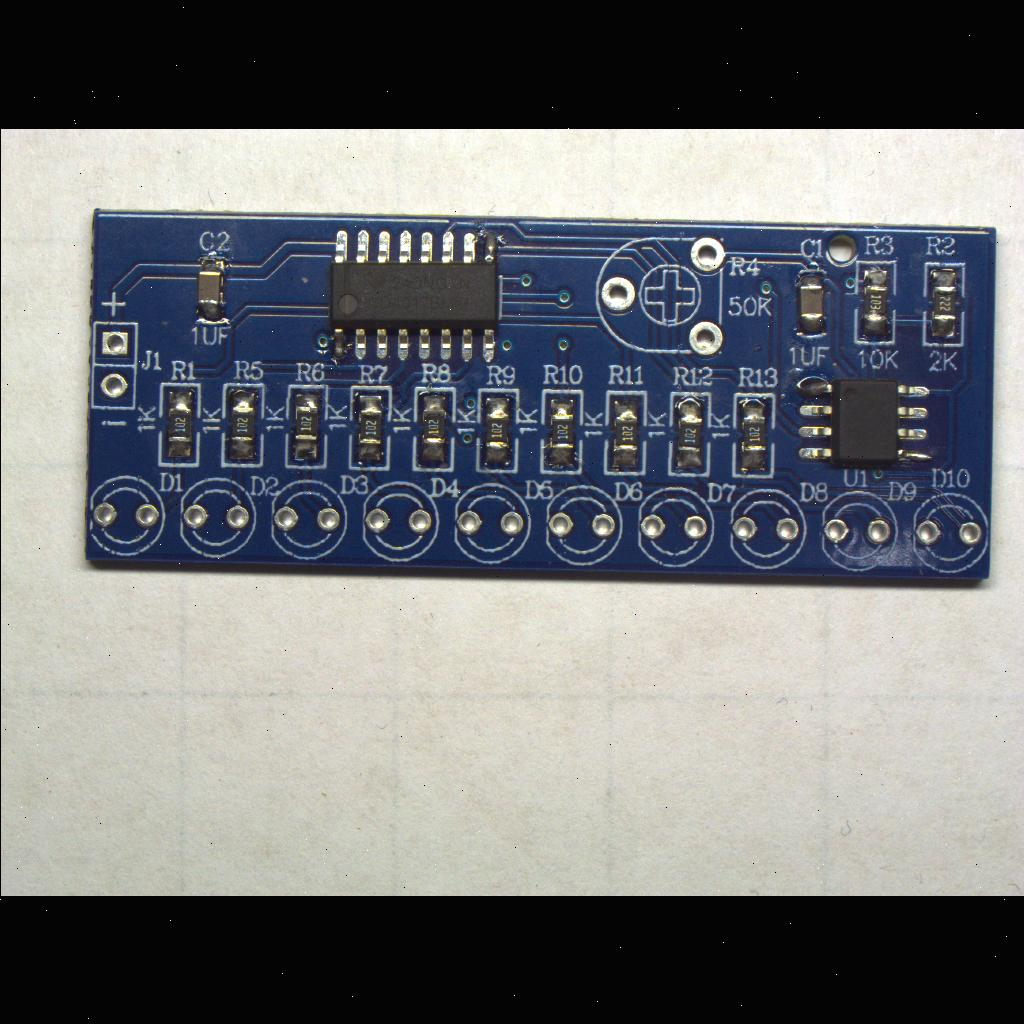OK: (321, 222, 503, 368), (788, 371, 938, 473), (848, 256, 898, 346), (280, 383, 330, 471), (472, 386, 520, 474), (729, 388, 775, 478), (667, 388, 713, 478), (218, 379, 264, 469), (919, 258, 965, 348), (411, 386, 457, 474), (156, 380, 200, 468), (539, 389, 583, 477), (346, 384, 390, 472), (602, 389, 646, 475), (190, 254, 230, 326), (794, 272, 826, 336)
